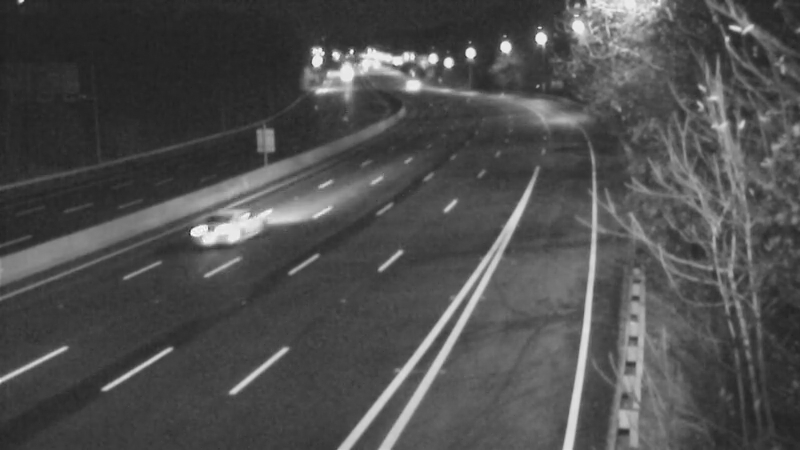vehicle: (186, 182, 266, 262), (387, 59, 437, 109)
